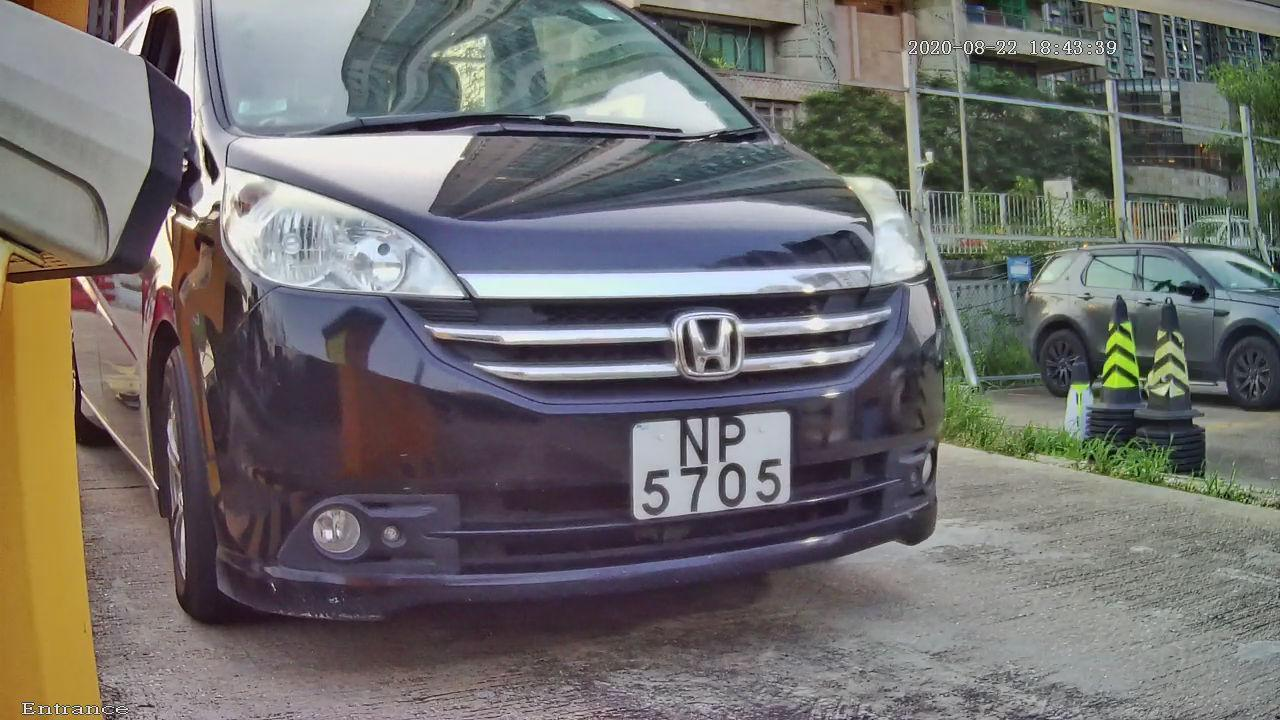License Plate: (618, 399, 801, 534)
